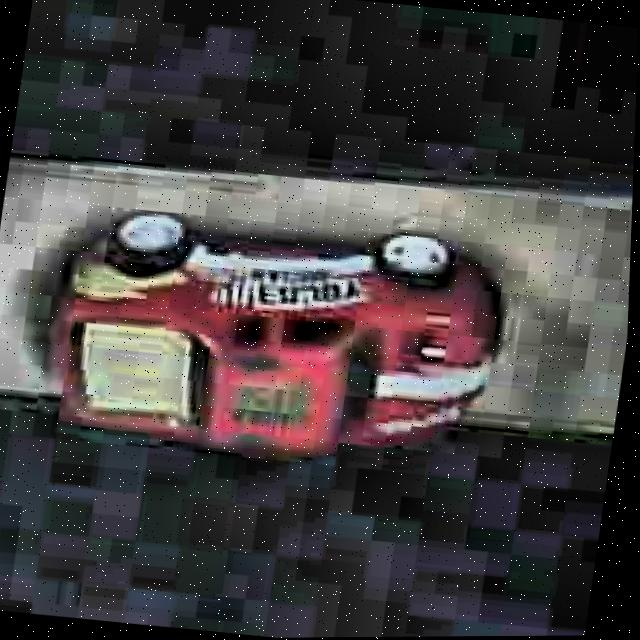car: (31, 198, 516, 478)
